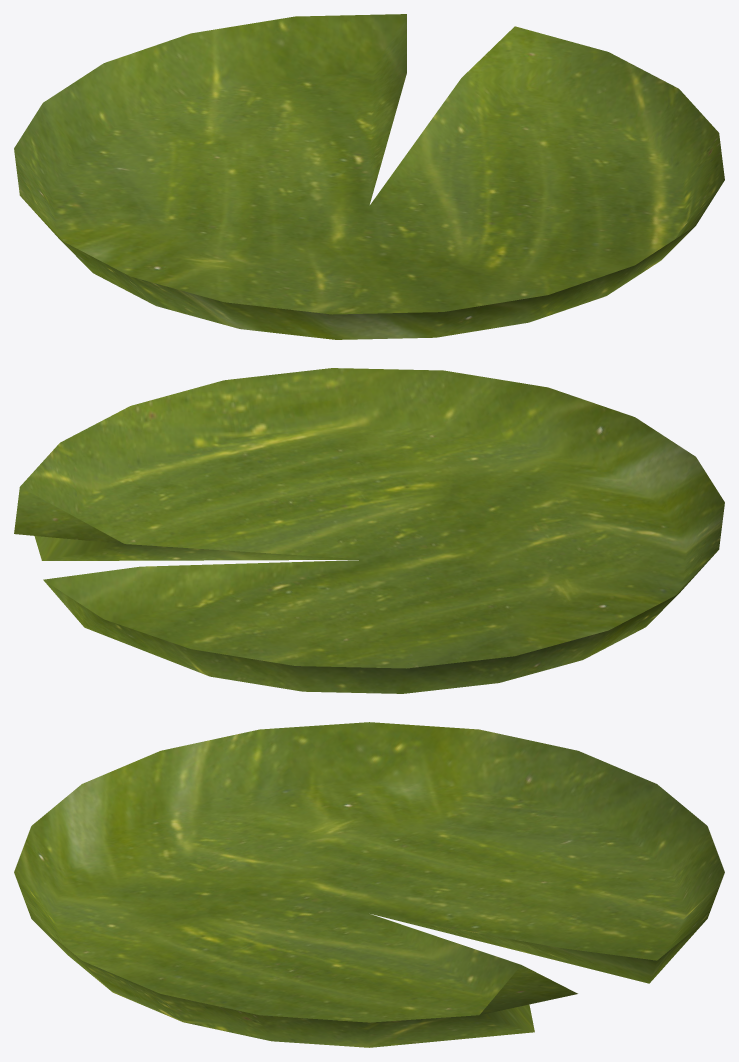
The model's file is Nenuphar01.fbx.
The picture shows the model from 3 angles, top to bottom: view 1: azimuth 30°, elevation 25°; view 2: azimuth 150°, elevation 25°; view 3: azimuth 270°, elevation 25°; orthographic projection.
Visible parts, largest first — view 1: nenuphar; view 2: nenuphar; view 3: nenuphar.
Boxes of the visible parts, x1,y1,x2,y2 form: nenuphar: (14, 14, 724, 339); nenuphar: (14, 368, 724, 693); nenuphar: (14, 722, 724, 1047).
Size of the model in its own units: 26.83 by 1.72 by 26.83.
